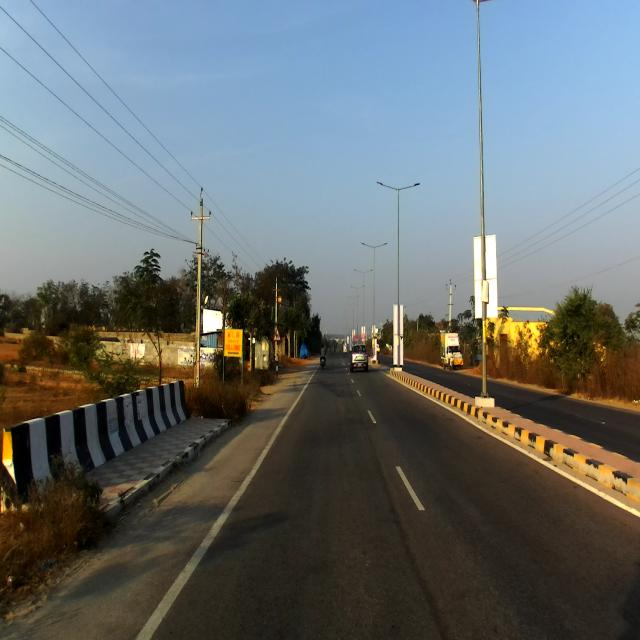electric pole ahead at: (185, 180, 216, 400)
